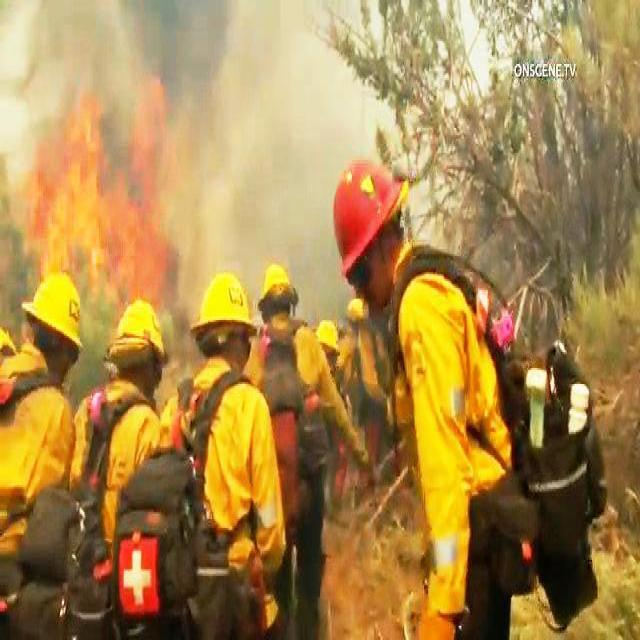Fire: (26, 98, 166, 260)
